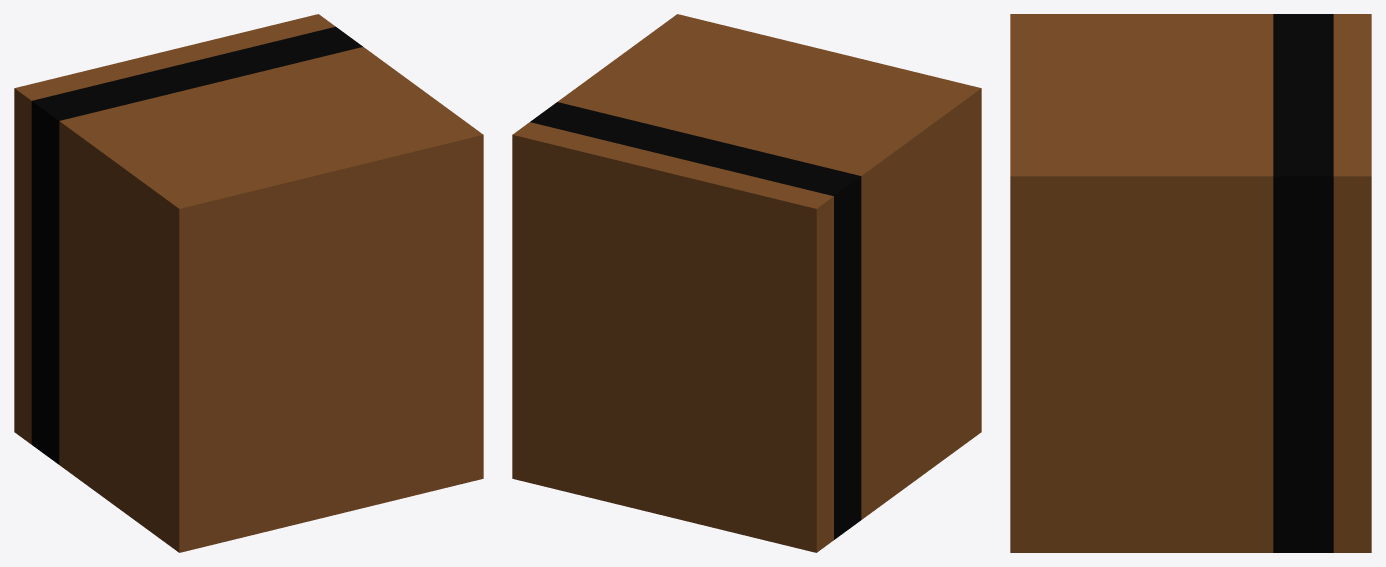
File: CardBox.fbx
The picture shows the model from 3 angles, left to right: view 1: azimuth 30°, elevation 25°; view 2: azimuth 150°, elevation 25°; view 3: azimuth 270°, elevation 25°; orthographic projection. The views are drawn at different scales.
Parts seen in each view (by area): view 1: Cube, Cube.001; view 2: Cube, Cube.001; view 3: Cube, Cube.001.
Boxes of the visible parts, left/top/right/bottom form: Cube: left=14, top=14, right=483, bottom=552; Cube.001: left=31, top=26, right=362, bottom=464; Cube: left=512, top=14, right=981, bottom=552; Cube.001: left=530, top=102, right=861, bottom=539; Cube: left=1010, top=14, right=1371, bottom=552; Cube.001: left=1273, top=14, right=1333, bottom=552.
Size of the model in its own units: 307 by 332 by 289.
